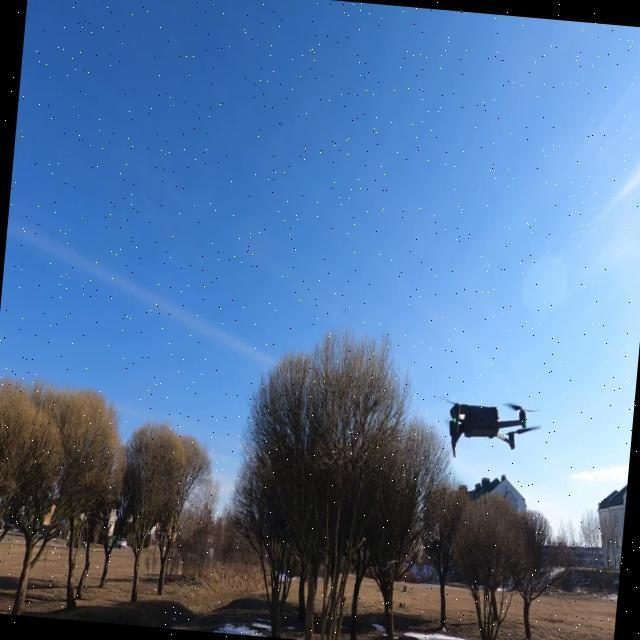Drons: (426, 382, 550, 468)
